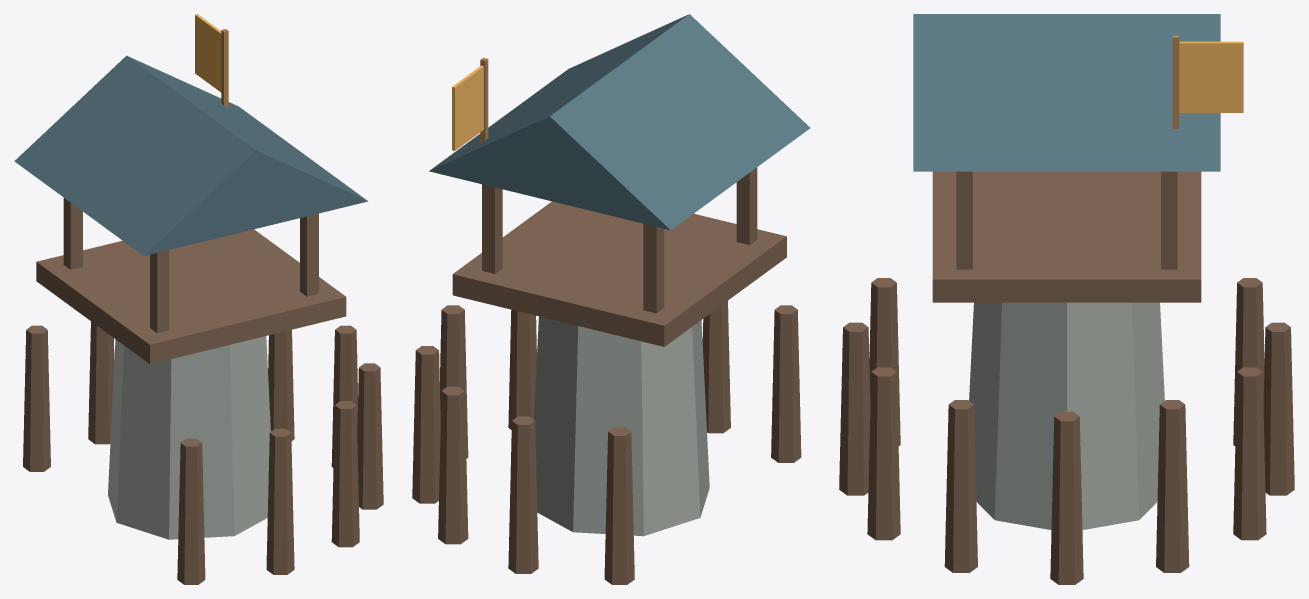
Rendered from SM_Watchtower.fbx.
3 renders of one model, left to right at view 1: azimuth 30°, elevation 25°; view 2: azimuth 150°, elevation 25°; view 3: azimuth 270°, elevation 25°, orthographic. The views are drawn at different scales.
Parts seen in each view (by area): view 1: SM_Watchtower; view 2: SM_Watchtower; view 3: SM_Watchtower.
Boxes of the visible parts, box(x1,y1,x2,y2) form: SM_Watchtower: box(14, 14, 383, 584); SM_Watchtower: box(412, 14, 810, 584); SM_Watchtower: box(839, 14, 1294, 584).
Bounding box in the file's own units: 2.96 × 3.56 × 4.3.
